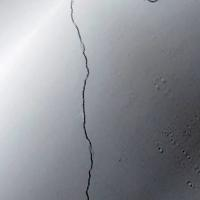crack: (48, 0, 107, 199)
